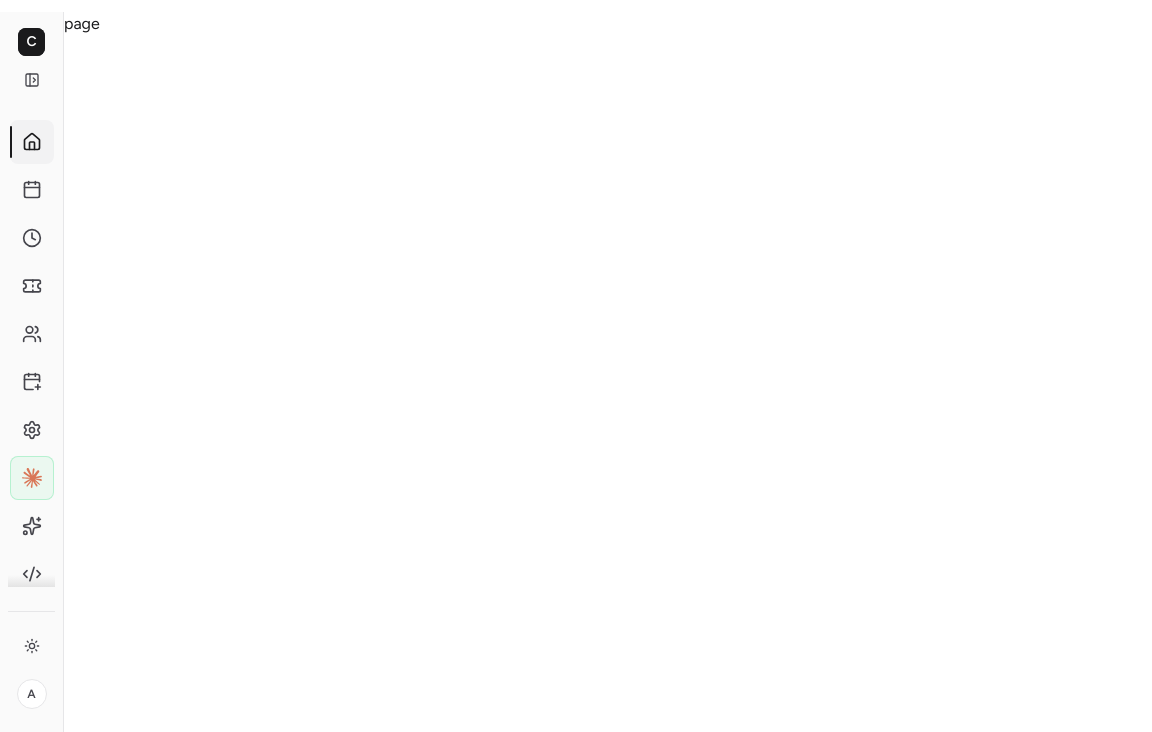
Test case: AdminShell: the API and webhooks group › closes the flyout on a click elsewhere, and after a page is picked
Click the button with test id "nav-api" at x=32, y=574, box [10,552,54,596]
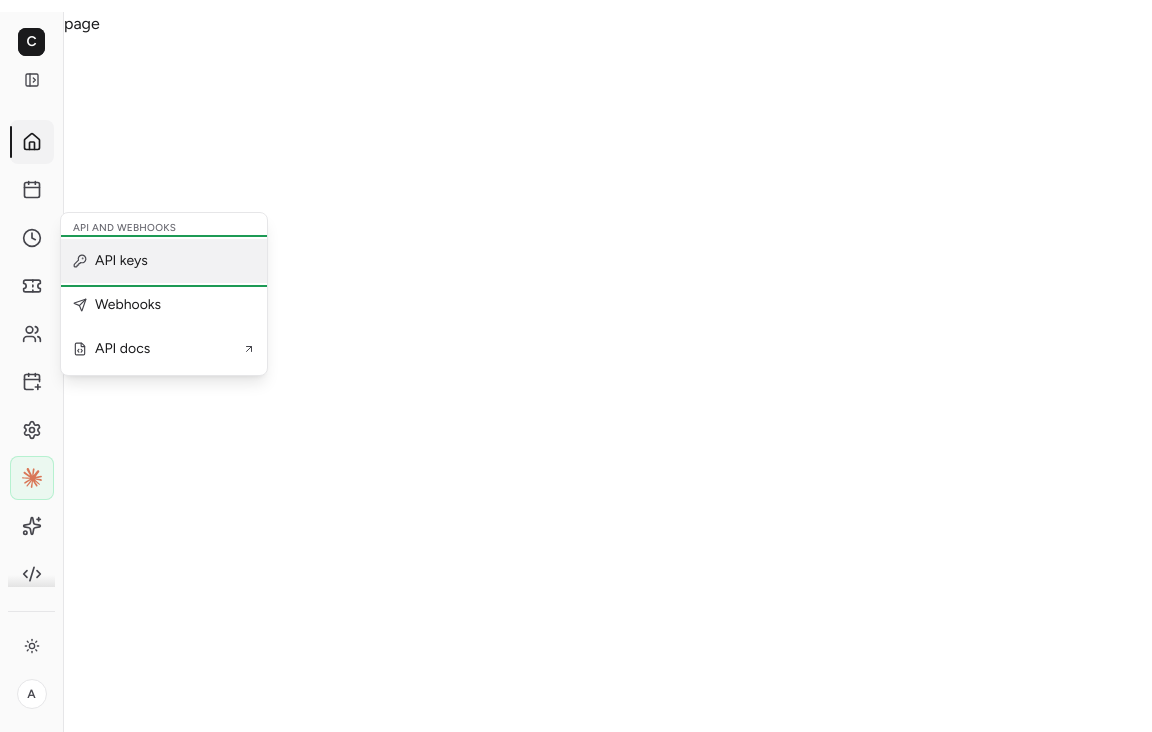
Now the menu with test id "nav-api-flyout" is shown, box [60,212,268,376]
Press the mouse on the element showing "page" at x=608, y=372, box [64,12,1151,731]
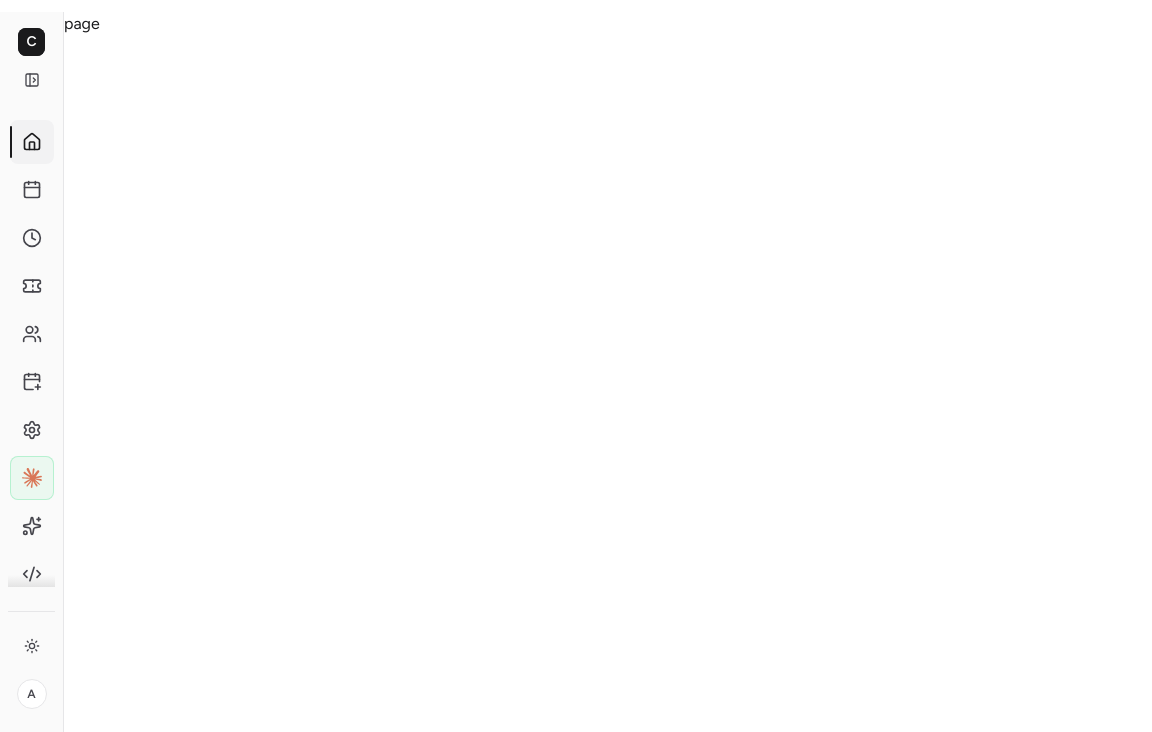
Now the menu with test id "nav-api-flyout" is gone
Click the button with test id "nav-api" at x=32, y=574, box [10,552,54,596]
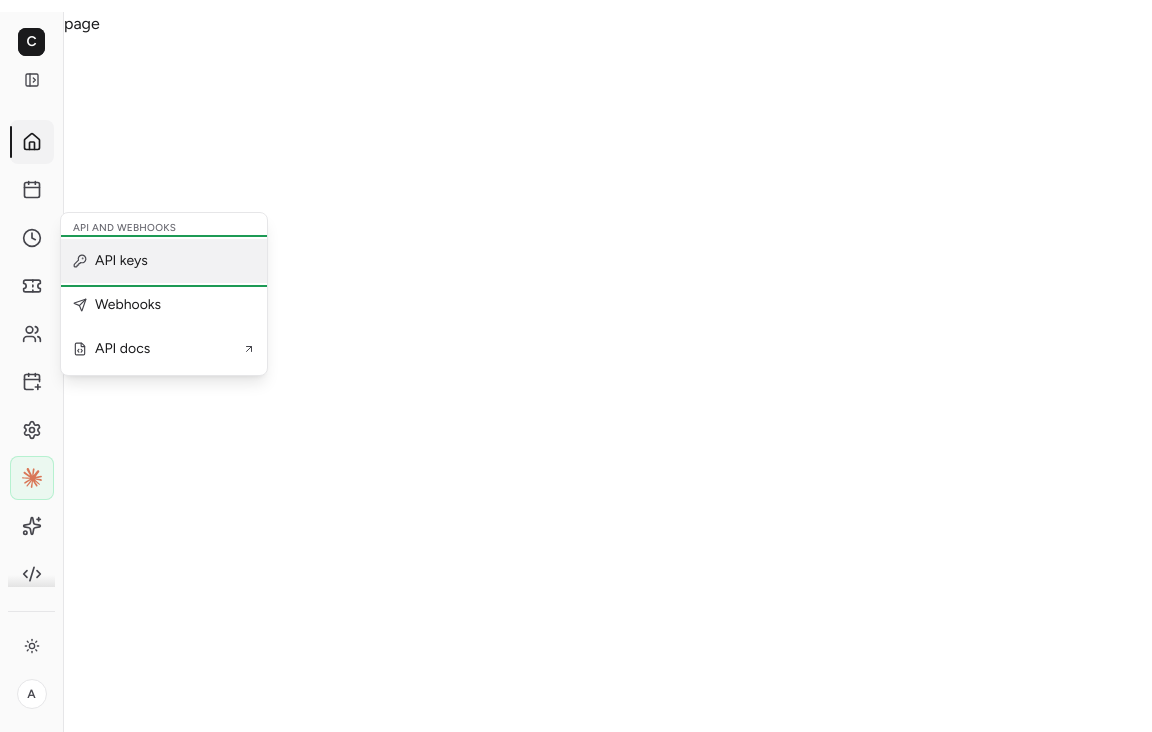
Click the menu item with test id "nav-api-flyout-docs" at x=164, y=349, box [61,327,267,371]
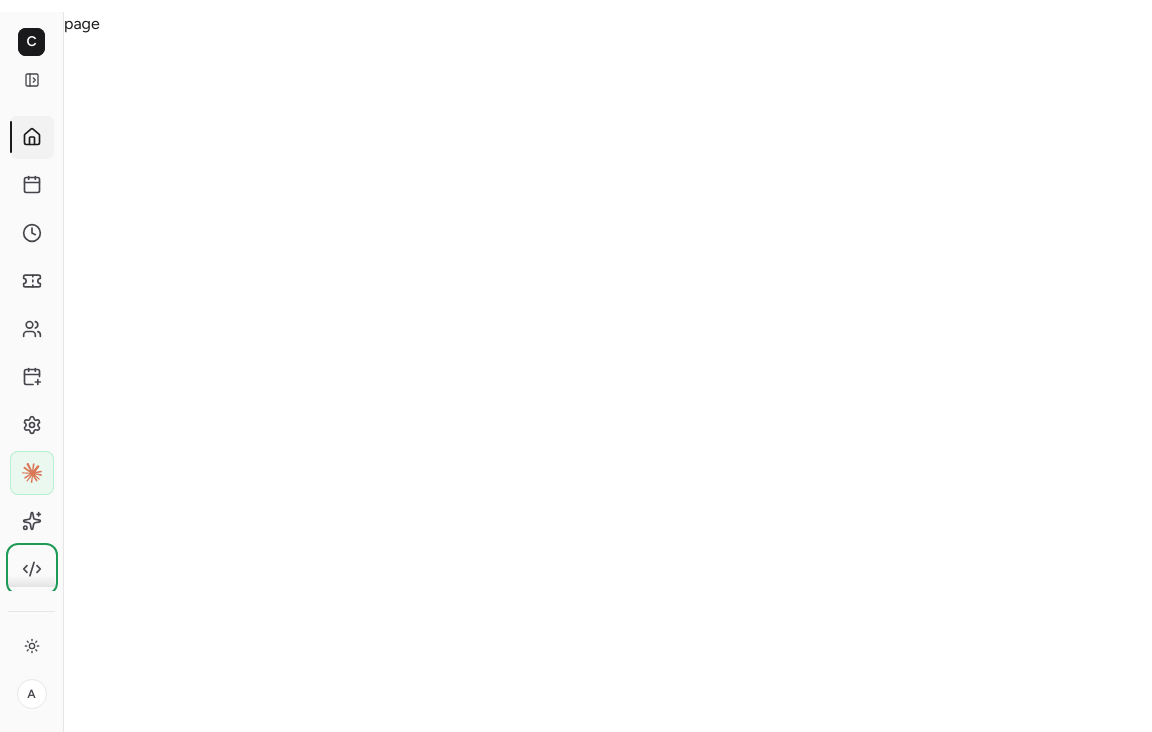
Now the menu with test id "nav-api-flyout" is gone
